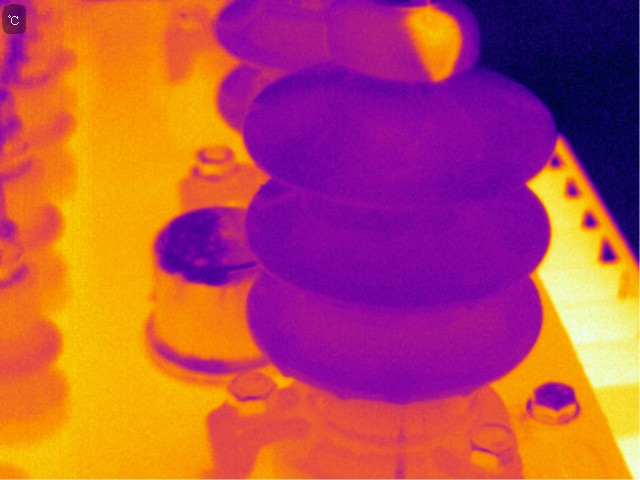Oil: (396, 1, 466, 88)
